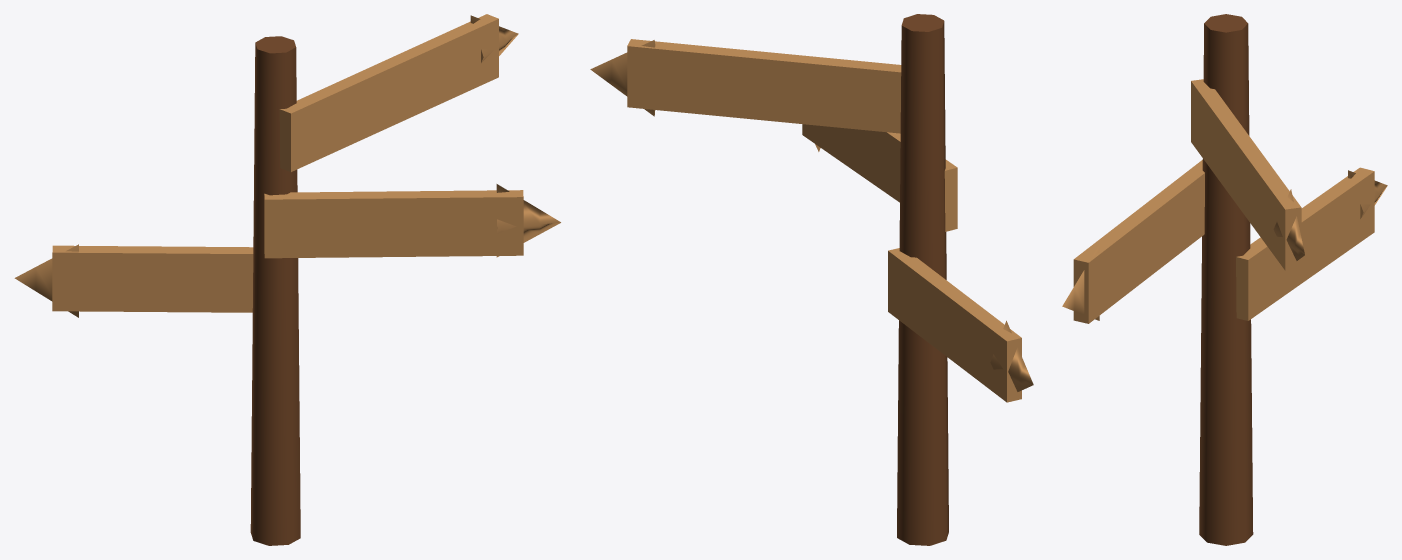
Rendered from Signpost.glb.
3 views of the same model, side by side, from view 1: azimuth 30°, elevation 25°; view 2: azimuth 150°, elevation 25°; view 3: azimuth 270°, elevation 25° (orthographic). The views are drawn at different scales.
Visible parts, largest first — view 1: Body; view 2: Body; view 3: Body.
Boxes of the visible parts, x1=… form: Body: x1=14, y1=14, x2=560, y2=545; Body: x1=590, y1=14, x2=1033, y2=545; Body: x1=1062, y1=14, x2=1387, y2=545.
Size of the model in its own units: 4.56 by 4.6 by 2.66.
1 material, 1 textured.
